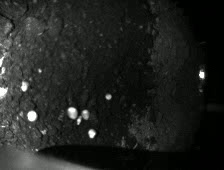corn: (64, 103, 79, 120), (24, 107, 39, 123), (79, 106, 92, 121), (18, 78, 30, 94), (85, 126, 98, 140), (74, 114, 84, 127), (103, 90, 113, 102)
